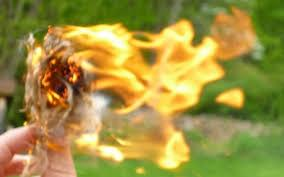fire: (28, 7, 259, 170)
